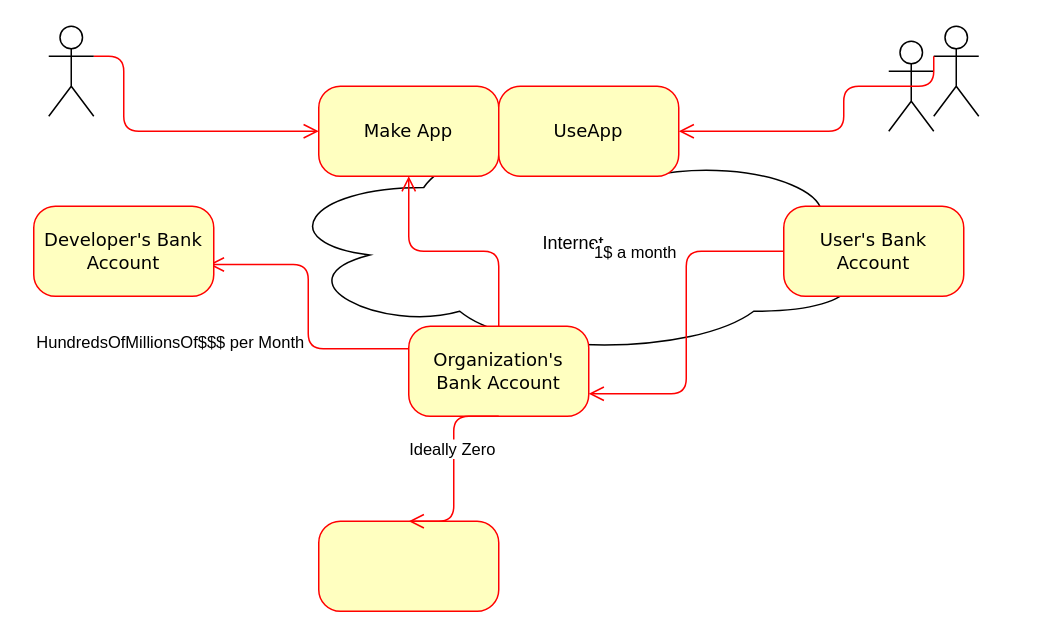
Some shapes in this 1049 by 638 pixel diagram are drawn without their labels. The shapes that lost their labels are listed below. From the top down, each one's centre as x and y in pixels, then its label:
At (70,70): "Developers".
At (910,85): "HundredsOfMillionsOfUsers".
At (408,565): "Expenses".
